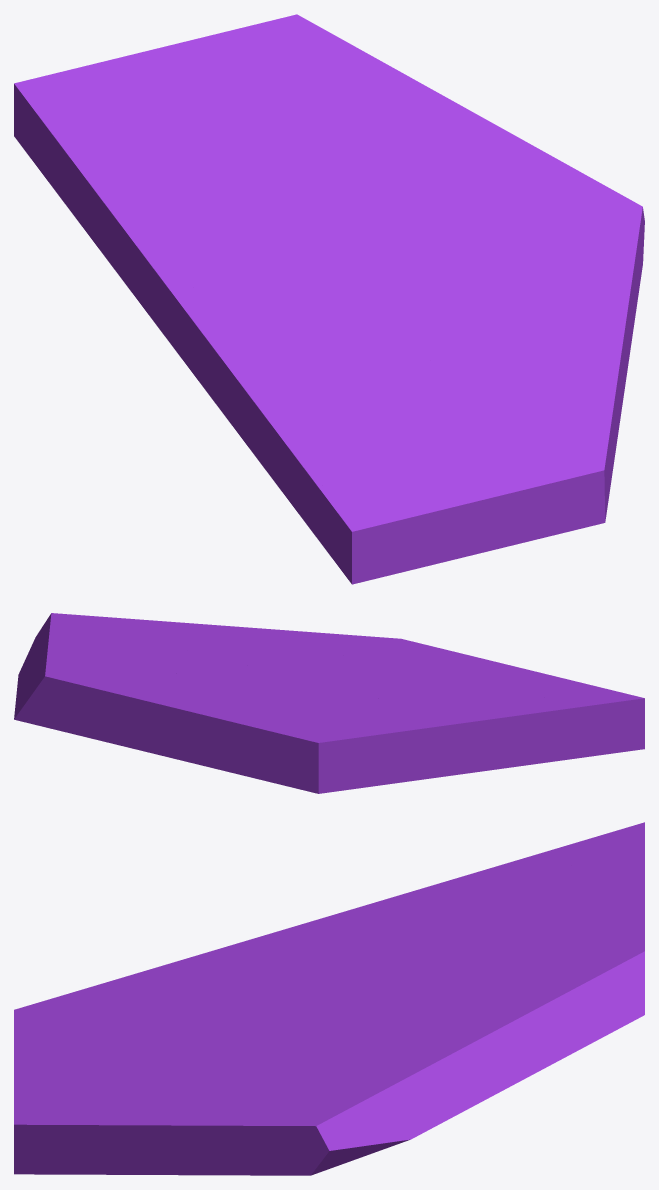
Rendered from Window_146_0_chunks.fbx.
The picture shows the model from 3 angles, top to bottom: view 1: azimuth 30°, elevation 25°; view 2: azimuth 150°, elevation 25°; view 3: azimuth 270°, elevation 25°; orthographic projection. The views are drawn at different scales.
Visible parts, largest first — view 1: Window_146_0_1, Window_146_0_7, Window_146_0_18, Window_146_0_9, Window_146_0_2, Window_146_0_11, Window_146_0_8, Window_146_0_22, Window_146_0_14, Window_146_0_21, Window_146_0_15, Window_146_0_23 (+13 smaller); view 2: Window_146_0_1, Window_146_0_15, Window_146_0_23, Window_146_0_27, Window_146_0_9, Window_146_0_7, Window_146_0_30, Window_146_0_2, Window_146_0_11, Window_146_0_8, Window_146_0_22, Window_146_0_14 (+12 smaller); view 3: Window_146_0_1, Window_146_0_9, Window_146_0_12, Window_146_0_11, Window_146_0_7, Window_146_0_2, Window_146_0_8, Window_146_0_22, Window_146_0_14, Window_146_0_21, Window_146_0_19, Window_146_0_15 (+12 smaller).
Part boxes in pixels (<box>): Window_146_0_1: <box>156,14,409,155</box>; Window_146_0_7: <box>330,244,619,384</box>; Window_146_0_18: <box>327,462,559,584</box>; Window_146_0_9: <box>406,75,575,228</box>; Window_146_0_2: <box>250,146,414,275</box>; Window_146_0_11: <box>482,206,636,348</box>; Window_146_0_8: <box>422,359,618,444</box>; Window_146_0_22: <box>322,353,430,528</box>; Window_146_0_14: <box>87,103,292,206</box>; Window_146_0_21: <box>221,260,423,361</box>; Window_146_0_15: <box>14,49,225,161</box>; Window_146_0_23: <box>24,96,145,265</box>; Window_146_0_1: <box>14,656,221,761</box>; Window_146_0_15: <box>181,698,337,793</box>; Window_146_0_23: <box>323,722,431,791</box>; Window_146_0_27: <box>500,696,616,765</box>; Window_146_0_9: <box>15,625,227,702</box>; Window_146_0_7: <box>248,628,380,685</box>; Window_146_0_30: <box>425,699,524,772</box>; Window_146_0_2: <box>133,660,396,703</box>; Window_146_0_11: <box>105,617,248,651</box>; Window_146_0_8: <box>273,629,470,675</box>; Window_146_0_22: <box>378,669,641,705</box>; Window_146_0_14: <box>202,686,349,729</box>; Window_146_0_1: <box>455,887,644,1060</box>; Window_146_0_9: <box>336,1006,557,1128</box>; Window_146_0_12: <box>221,1087,430,1175</box>; Window_146_0_11: <box>153,1052,341,1172</box>; Window_146_0_7: <box>119,982,342,1133</box>; Window_146_0_2: <box>338,946,478,1020</box>; Window_146_0_8: <box>43,1036,195,1144</box>; Window_146_0_22: <box>19,990,221,1035</box>; Window_146_0_14: <box>445,859,572,957</box>; Window_146_0_21: <box>205,932,349,1031</box>; Window_146_0_19: <box>14,1071,97,1174</box>; Window_146_0_15: <box>560,822,644,922</box>.
Bounding box in the file's own units: 919 × 482 × 1165.
